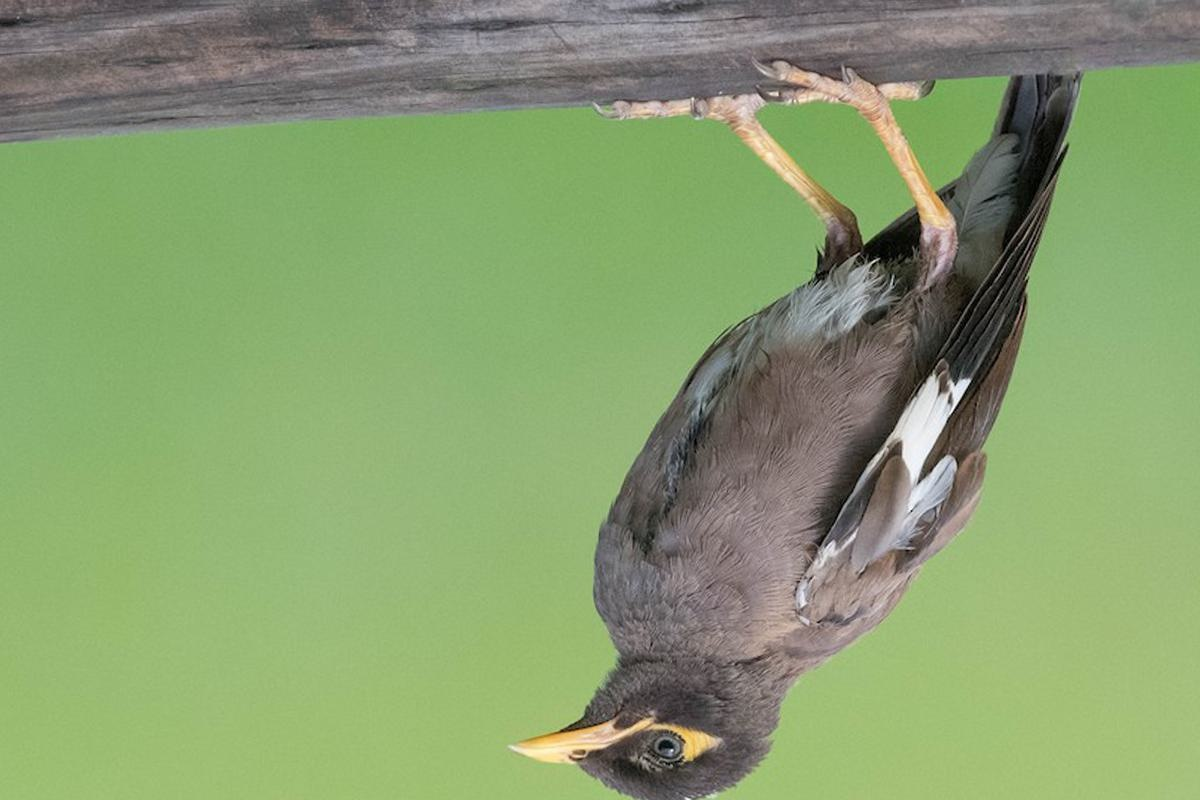myna: (497, 77, 1200, 792)
